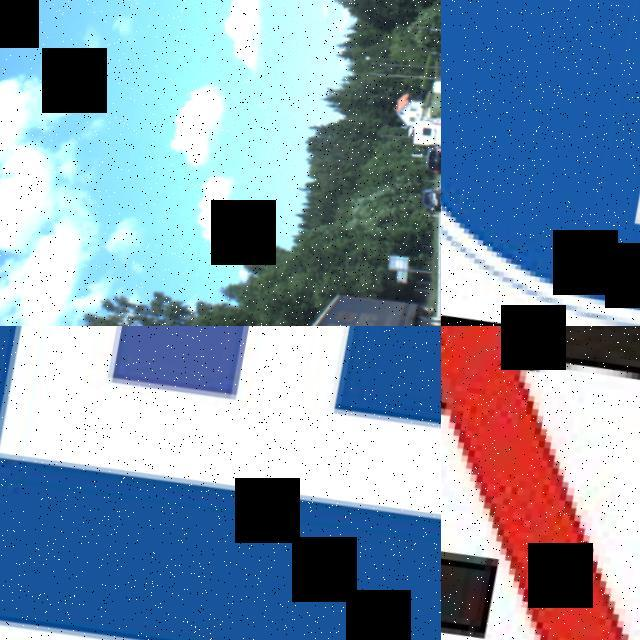86: (0, 326, 441, 640)
94: (441, 0, 640, 326)
No passing: (441, 326, 640, 640)
